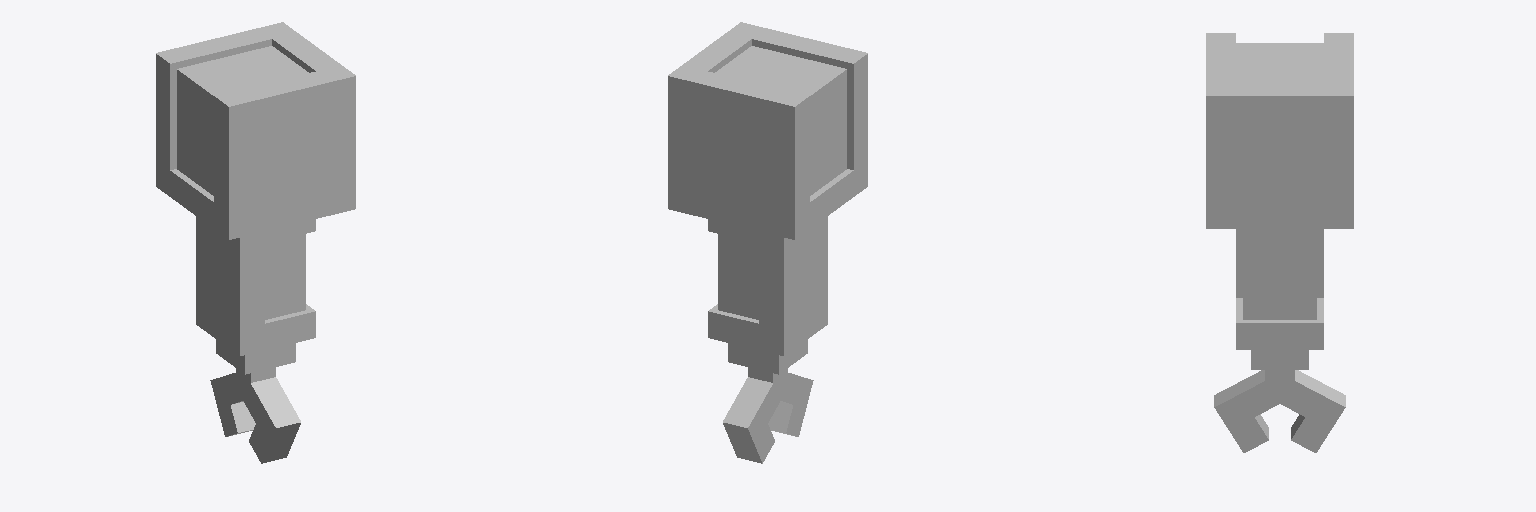
Rendered from arm_grabber_l.obj.
3 views of the same model, side by side, from view 1: azimuth 30°, elevation 25°; view 2: azimuth 150°, elevation 25°; view 3: azimuth 270°, elevation 25° (orthographic).
Parts seen in each view (by area): view 1: ARM_LEFT_GRABBY_Cube.007; view 2: ARM_LEFT_GRABBY_Cube.007; view 3: ARM_LEFT_GRABBY_Cube.007.
Boxes of the visible parts, x1,y1,x2,y2 form: ARM_LEFT_GRABBY_Cube.007: [156, 22, 355, 463]; ARM_LEFT_GRABBY_Cube.007: [668, 22, 867, 463]; ARM_LEFT_GRABBY_Cube.007: [1206, 33, 1353, 452].
Size of the model in its own units: 0.3125 by 0.8979 by 0.3125.